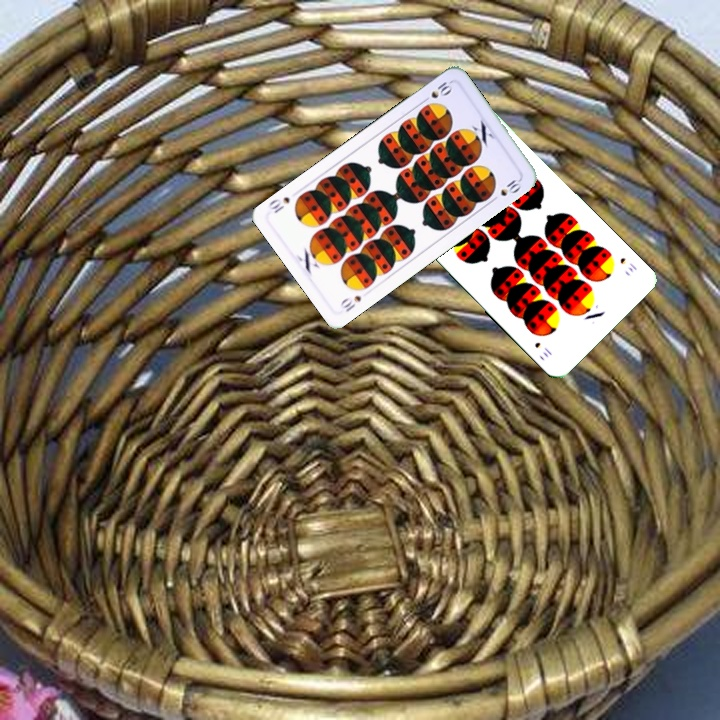S10: (418, 76, 455, 106), (336, 291, 364, 315), (616, 254, 639, 275)
